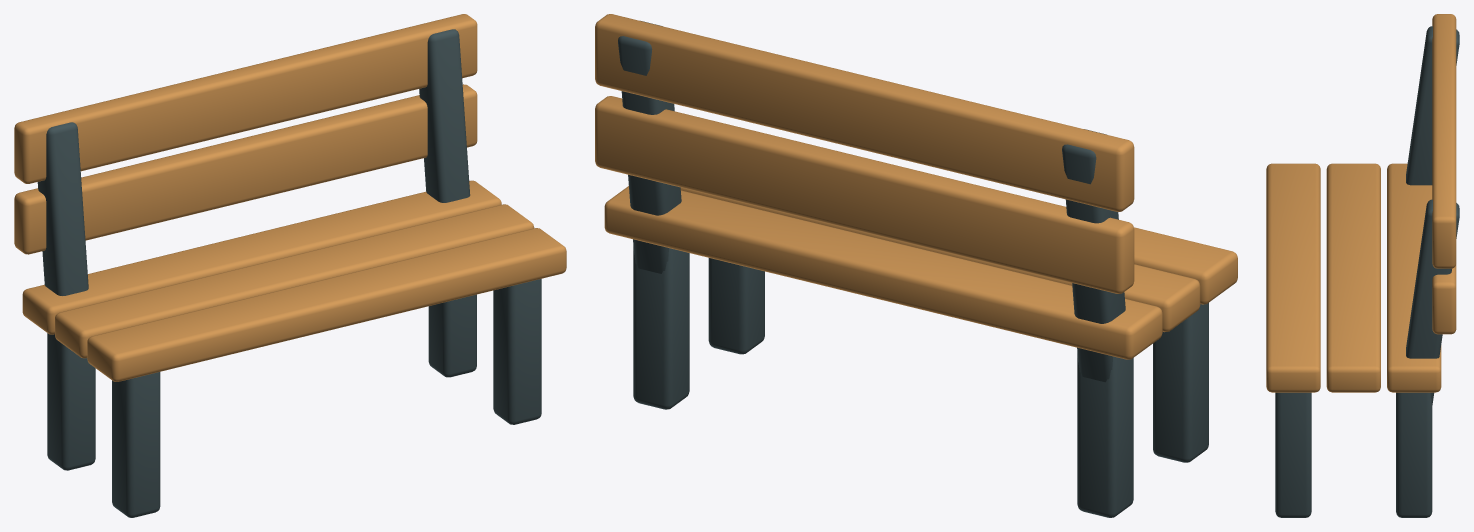
The model's file is bench.glb.
3 views of the same model, side by side, from view 1: azimuth 30°, elevation 25°; view 2: azimuth 150°, elevation 25°; view 3: azimuth 270°, elevation 25° (orthographic). The views are drawn at different scales.
Visible parts, largest first — view 1: bench; view 2: bench; view 3: bench.
Boxes of the visible parts, bbox=[...] form: bench: bbox=[14, 14, 566, 517]; bench: bbox=[595, 14, 1237, 517]; bench: bbox=[1266, 14, 1459, 517].
Bounding box in the file's own units: 1.62 × 1.13 × 0.6406.
